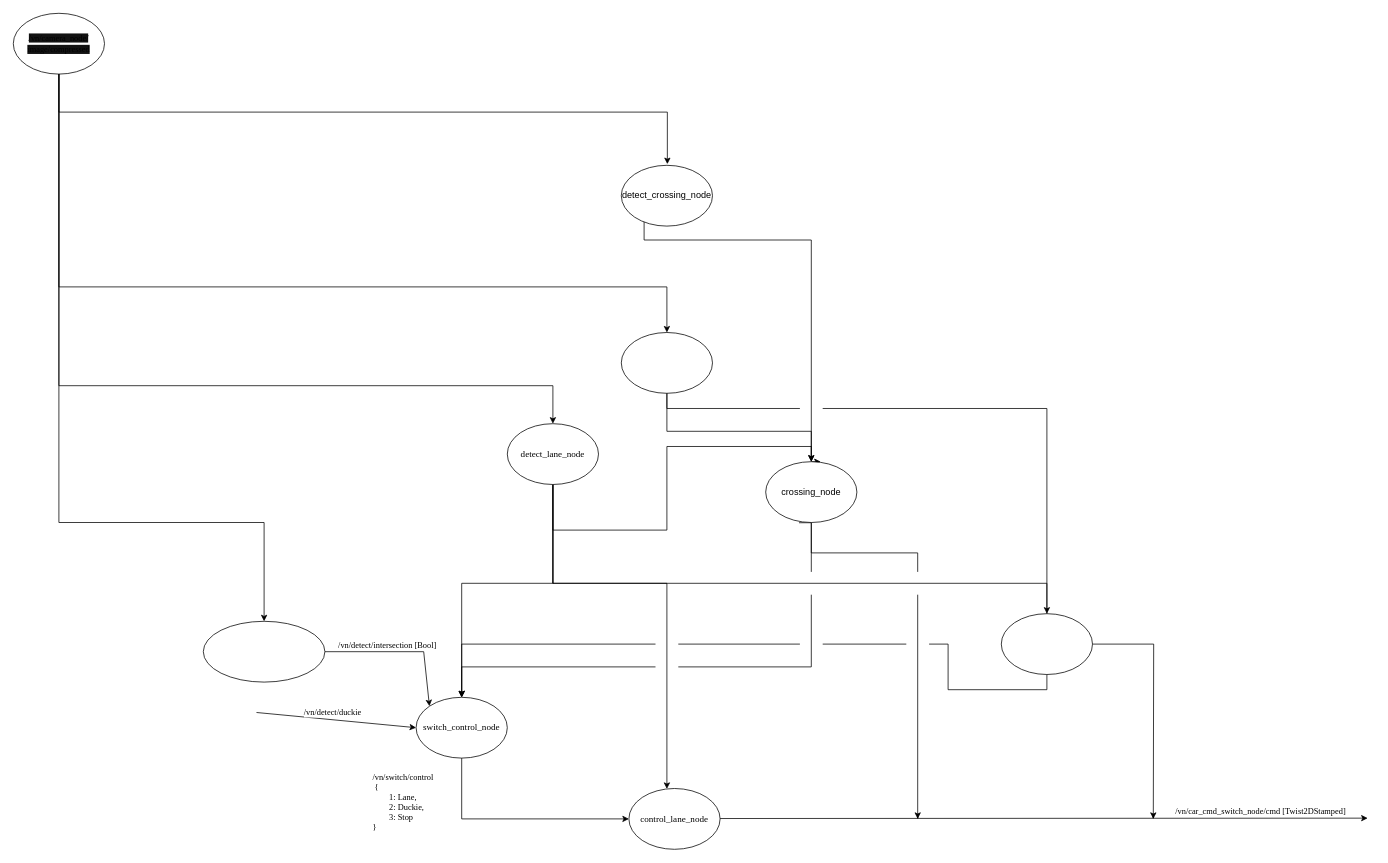
The diagram is 1388 pixels wide and 863 high, and some of its shapes have lost their labels. The centre of each missing label's shape, as x and y in pixels:
"detect_intersection_node" goes at point (264, 651).
"detect_obstacle_node" goes at point (666, 362).
"obstactle_avoidance _node" goes at point (1046, 643).
